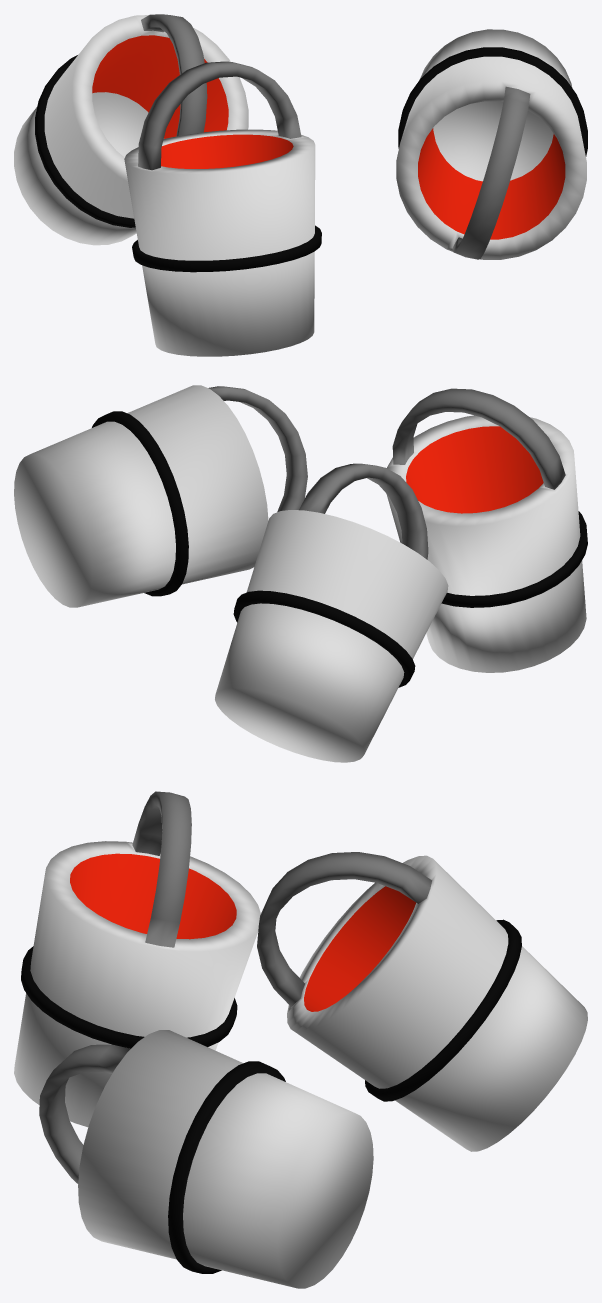
The model's file is Buckets3.fbx.
The picture shows the model from 3 angles, top to bottom: view 1: azimuth 30°, elevation 25°; view 2: azimuth 150°, elevation 25°; view 3: azimuth 270°, elevation 25°; orthographic projection. The views are drawn at different scales.
Visible parts, largest first — view 1: Cylinder.003; view 2: Cylinder.003; view 3: Cylinder.003.
Boxes of the visible parts, left/top/right/bottom form: Cylinder.003: left=14, top=14, right=587, bottom=356; Cylinder.003: left=14, top=385, right=587, bottom=762; Cylinder.003: left=14, top=791, right=587, bottom=1288.
Size of the model in its own units: 595 by 320 by 517.
